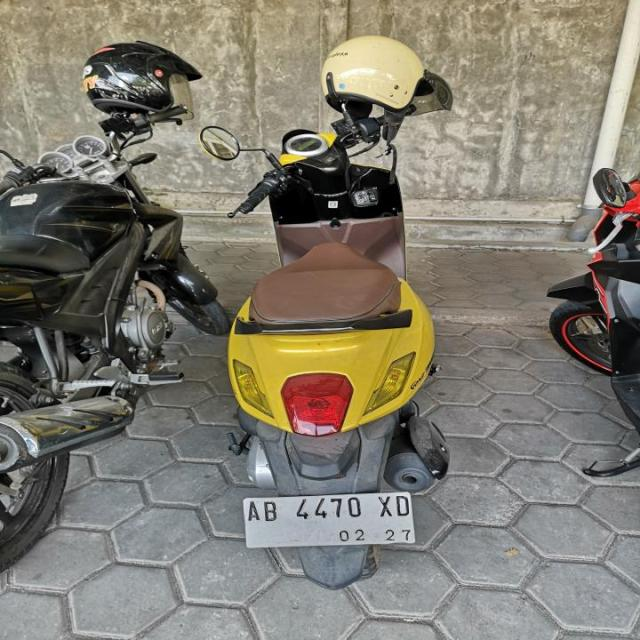License Plate: (241, 489, 419, 551)
